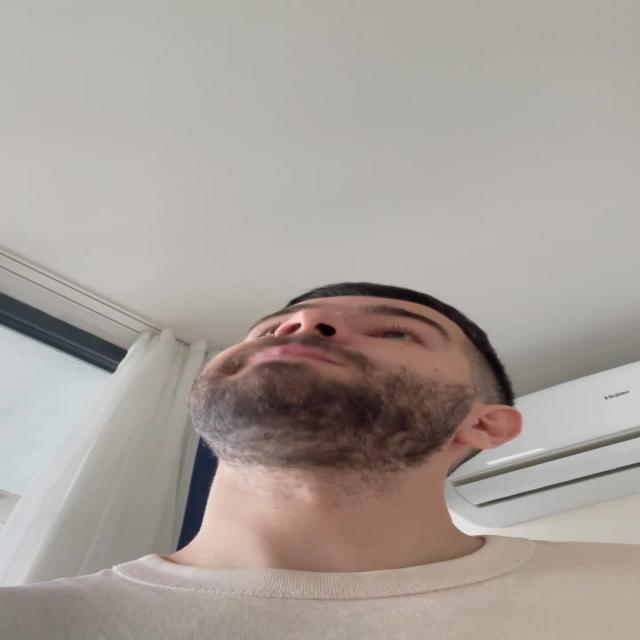earlobe: (454, 431, 486, 450)
eye: (359, 327, 430, 344), (250, 324, 282, 338)
nose: (280, 328, 344, 343)
wholeear: (454, 404, 524, 450)
